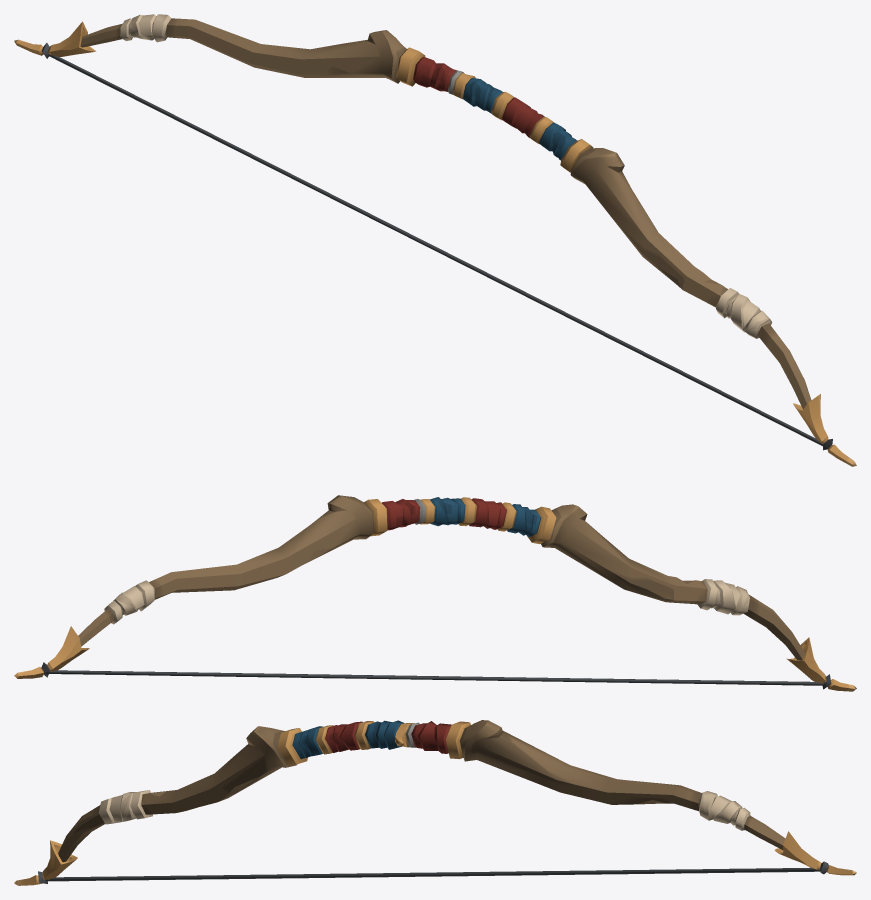
The model's file is bw-recurve-04.glb.
3 renders of one model, top to bottom at view 1: azimuth 90°, elevation 25°; view 2: azimuth 150°, elevation 25°; view 3: azimuth 270°, elevation 25°, orthographic.
Visible parts, largest first — view 1: bw-recurve-04; view 2: bw-recurve-04; view 3: bw-recurve-04.
Boxes of the visible parts, left/top/right/bottom form: bw-recurve-04: left=14, top=14, right=856, bottom=466; bw-recurve-04: left=14, top=495, right=856, bottom=691; bw-recurve-04: left=14, top=720, right=856, bottom=885.
Size of the model in its own units: 0.779 by 0.5258 by 1.34.
Materials: 1 (1 with a texture image).
